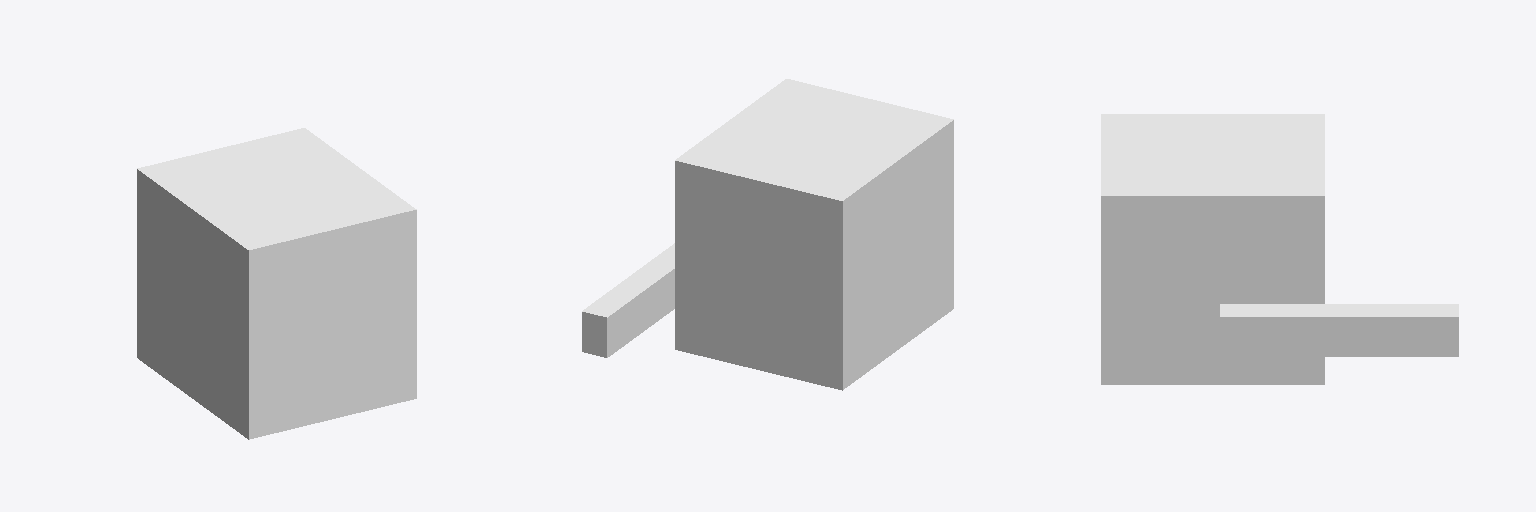
Rendered from sphere_robot.obj.
3 views of the same model, side by side, from view 1: azimuth 30°, elevation 25°; view 2: azimuth 150°, elevation 25°; view 3: azimuth 270°, elevation 25° (orthographic).
Bounding box in the file's own units: 15 × 14 × 24.